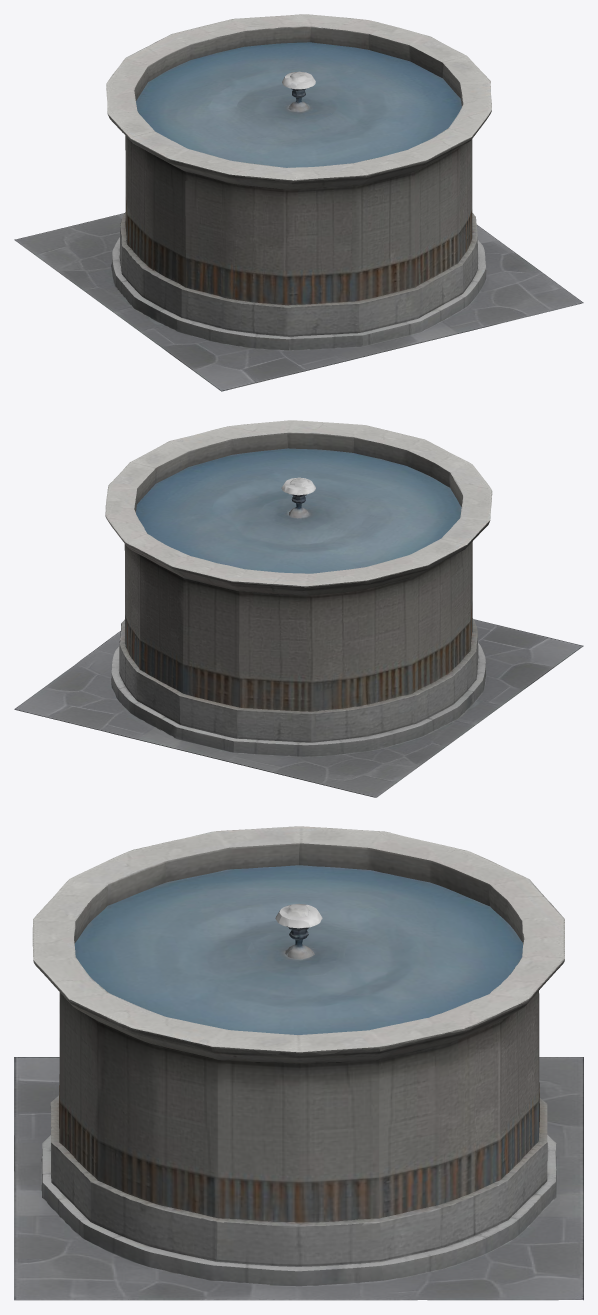
The model's file is fountain_tex.glb.
3 renders of one model, top to bottom at view 1: azimuth 30°, elevation 25°; view 2: azimuth 150°, elevation 25°; view 3: azimuth 270°, elevation 25°, orthographic. The views are drawn at different scales.
Visible parts, largest first — view 1: fountain; view 2: fountain; view 3: fountain.
Boxes of the visible parts, x1,y1,x2,y2 form: fountain: [14, 14, 583, 391]; fountain: [14, 420, 583, 797]; fountain: [14, 826, 583, 1300].
Size of the model in its own units: 1.92 by 1 by 1.9.
Materials: 1 (1 with a texture image).
